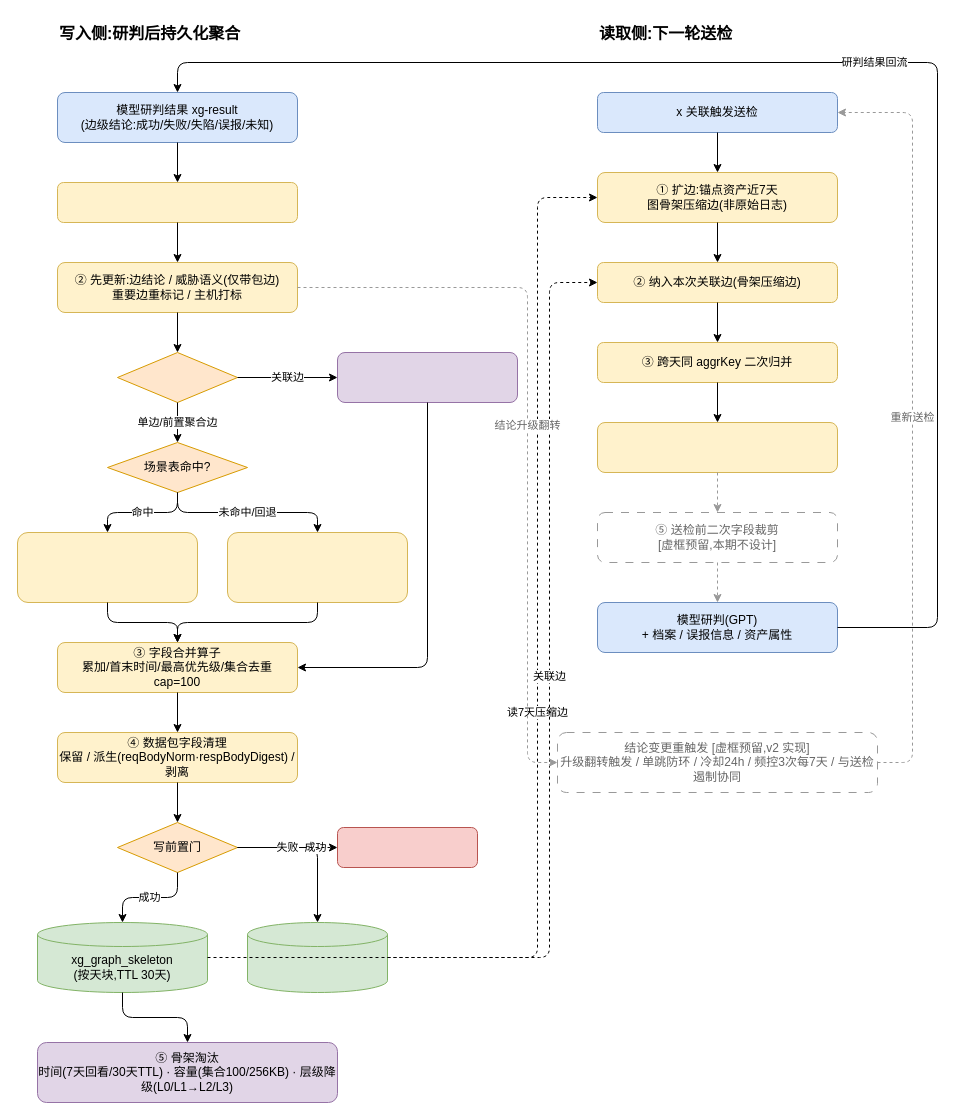
Image size: 963x1120. Some labels were removed from this diagram. Each missing label, with the centre of its shape:
"Redis 暂存重试" belongs at point 407,847.
"xg_sub_event" belongs at point 317,957.
"① 解析 edgeResults + assetVerdict" belongs at point 177,202.
"④ 规模控制 Top-100 (重要边>子事件>危害度>最近时间)" belongs at point 717,447.
"场景聚合 L0–L3 公共前缀 + layerKey 层级升降 / 多ruleId取高优先级" belongs at point 107,567.
"子事件管理器 (关联边独立成桶,成员共进退)" belongs at point 427,377.
"边分类" belongs at point 177,377.
"默认兜底聚合 前缀 + alertRuleId + 实体字段 相似度归一化分桶(BPE)" belongs at point 317,567.
